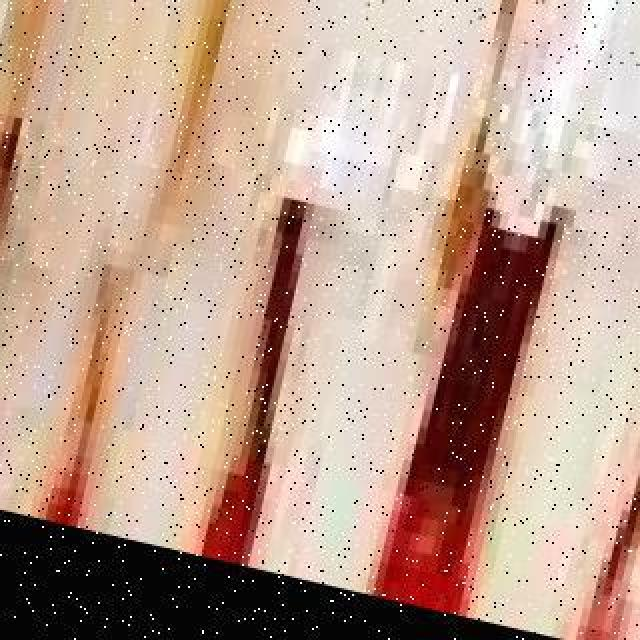spacing: (388, 143, 540, 577), (213, 190, 315, 502), (438, 0, 564, 182)
